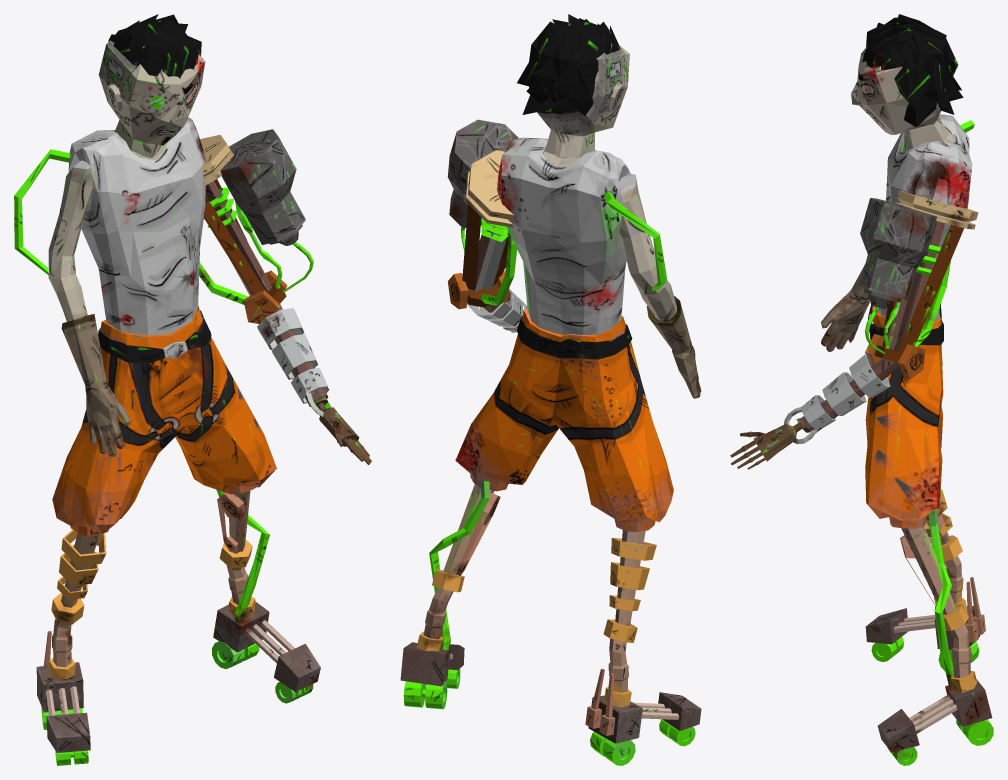
The model's file is CyborgFINALAnimation_000037.obj.
3 renders of one model, left to right at view 1: azimuth 30°, elevation 25°; view 2: azimuth 150°, elevation 25°; view 3: azimuth 270°, elevation 25°, orthographic. The views are drawn at different scales.
Parts seen in each view (by area): view 1: CyborgMesh_Cube.002; view 2: CyborgMesh_Cube.002; view 3: CyborgMesh_Cube.002.
Part boxes in pixels (<box>): CyborgMesh_Cube.002: <box>14,14,371,765</box>; CyborgMesh_Cube.002: <box>400,14,701,765</box>; CyborgMesh_Cube.002: <box>730,14,993,765</box>.
Size of the model in its own units: 3.85 by 9.68 by 3.4.
